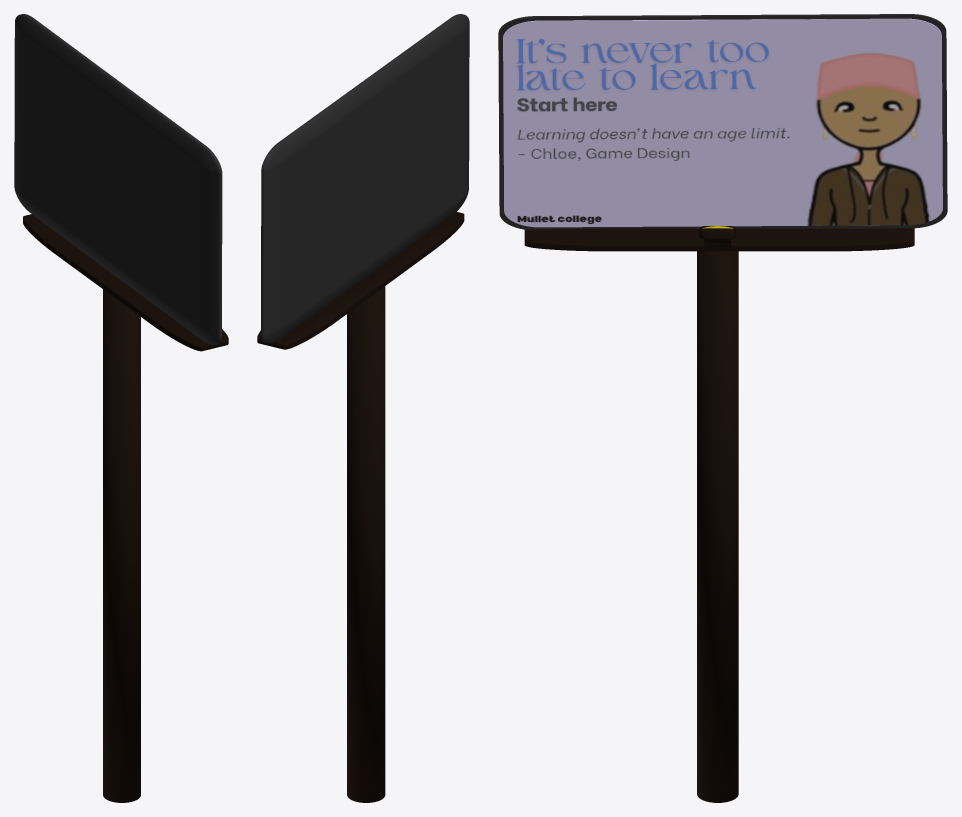
Rendered from mulletcollegeboard2.fbx.
3 renders of one model, left to right at view 1: azimuth 30°, elevation 25°; view 2: azimuth 150°, elevation 25°; view 3: azimuth 270°, elevation 25°, orthographic. The views are drawn at different scales.
Visible parts, largest first — view 1: Plane.005, Cylinder.001, Cube.001; view 2: Plane.005, Cylinder.001, Cube.001; view 3: Plane.004, Cylinder.001, Cube.001, Plane.005.
Boxes of the visible parts, left/top/right/bottom form: Plane.005: left=14, top=14, right=222, bottom=344; Cylinder.001: left=103, top=289, right=140, bottom=802; Cube.001: left=23, top=214, right=228, bottom=351; Plane.005: left=260, top=14, right=469, bottom=343; Cylinder.001: left=347, top=286, right=385, bottom=802; Cube.001: left=257, top=212, right=464, bottom=349; Plane.004: left=503, top=18, right=942, bottom=227; Cylinder.001: left=697, top=251, right=738, bottom=802; Cube.001: left=524, top=228, right=914, bottom=251; Plane.005: left=498, top=14, right=947, bottom=230.
Bounding box in the file's own units: 304 × 2919 × 1526.
Materials: 4 (1 with a texture image).
